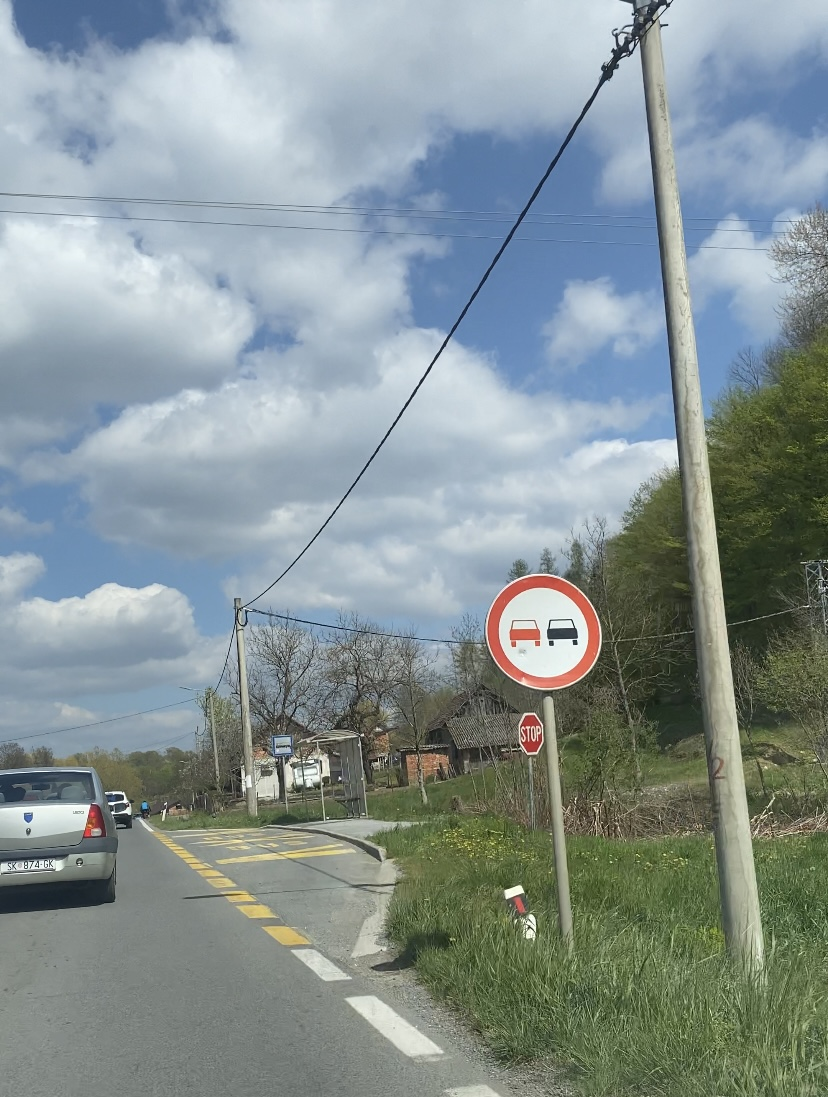Obavezno zaustavljanje: (518, 713, 544, 755)
Zabrana pretjecanja: (484, 573, 603, 690)
